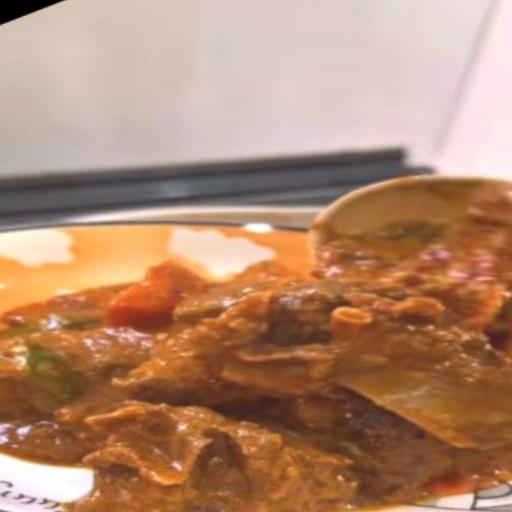pork caldereta: (0, 263, 511, 510)
